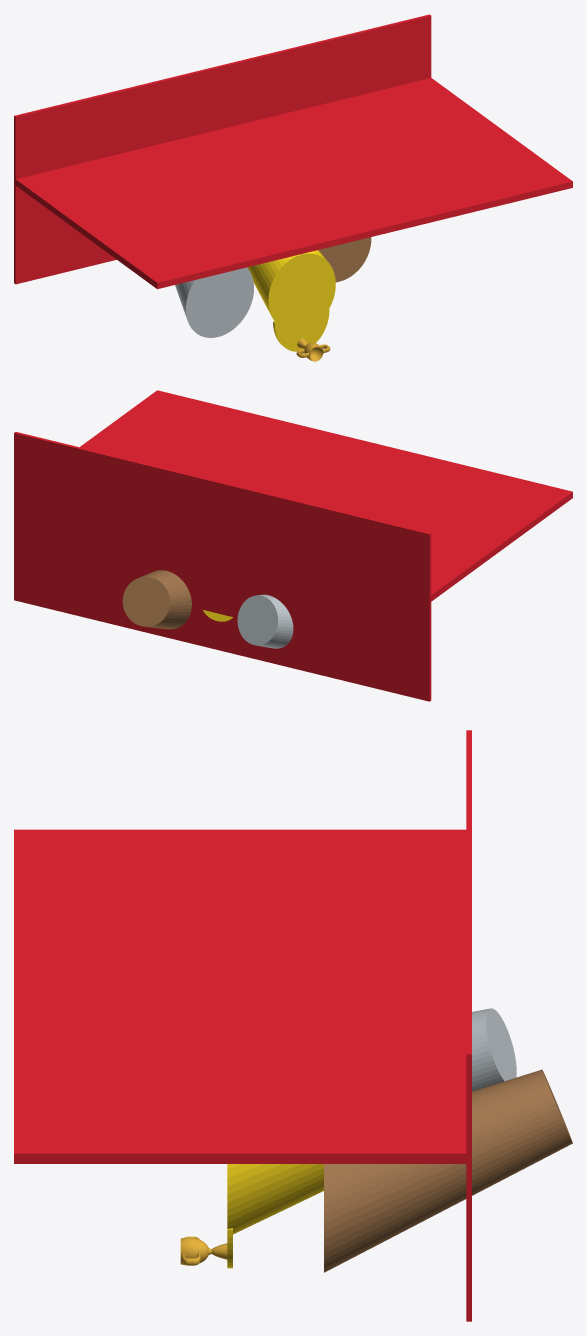
Rendered from tinker.obj.
3 renders of one model, top to bottom at view 1: azimuth 30°, elevation 25°; view 2: azimuth 150°, elevation 25°; view 3: azimuth 270°, elevation 25°, orthographic. The views are drawn at different scales.
Parts seen in each view (by area): view 1: group_0_15277357, group_0_16768282, group_0_12568524, group_0_11107152, group_0_14789940; view 2: group_0_15277357, group_0_11107152, group_0_12568524; view 3: group_0_15277357, group_0_11107152, group_0_16768282, group_0_12568524, group_0_14789940.
Boxes of the visible parts, left/top/right/bottom form: group_0_15277357: left=14, top=14, right=572, bottom=289; group_0_16768282: left=247, top=250, right=335, bottom=351; group_0_12568524: left=175, top=267, right=253, bottom=337; group_0_11107152: left=318, top=237, right=371, bottom=282; group_0_14789940: left=296, top=338, right=330, bottom=361; group_0_15277357: left=14, top=390, right=572, bottom=701; group_0_11107152: left=122, top=570, right=191, bottom=629; group_0_12568524: left=237, top=594, right=293, bottom=648; group_0_15277357: left=14, top=730, right=471, bottom=1321; group_0_11107152: left=324, top=1069, right=572, bottom=1272; group_0_16768282: left=227, top=1164, right=323, bottom=1268; group_0_12568524: left=472, top=1008, right=516, bottom=1091; group_0_14789940: left=180, top=1236, right=227, bottom=1265.
Bounding box in the file's own units: 273 × 145 × 199.
